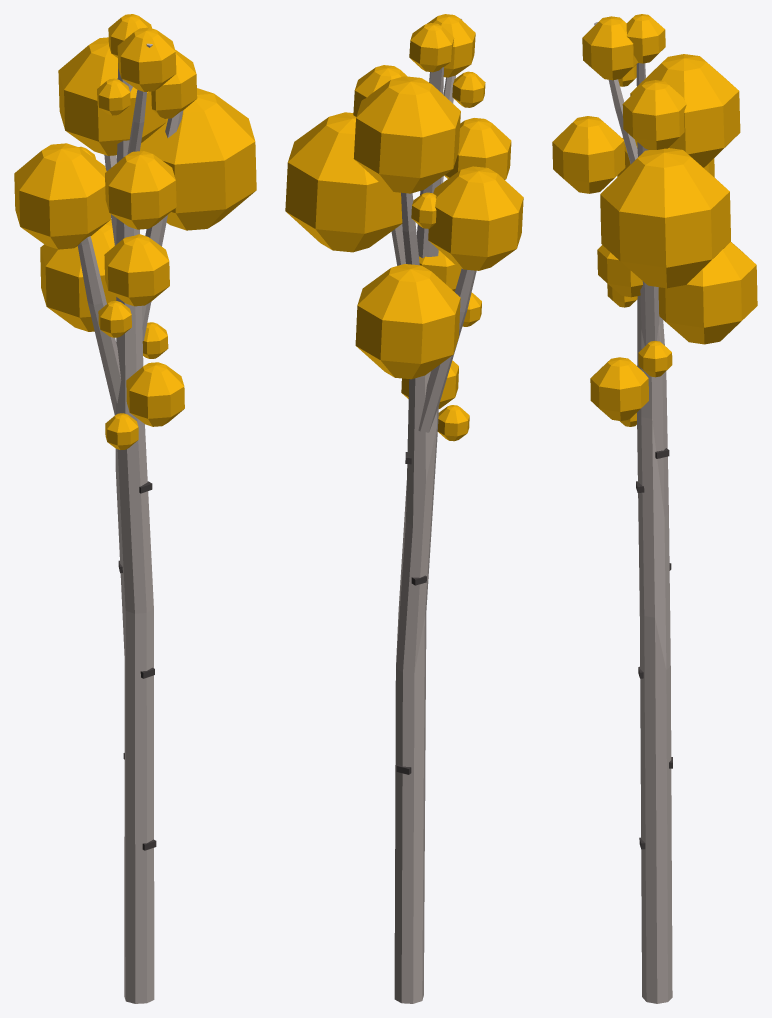
Rendered from Birch_Yellow.fbx.
The picture shows the model from 3 angles, left to right: view 1: azimuth 30°, elevation 25°; view 2: azimuth 150°, elevation 25°; view 3: azimuth 270°, elevation 25°; orthographic projection. The views are drawn at different scales.
Parts seen in each view (by area): view 1: Birch_Yellow; view 2: Birch_Yellow; view 3: Birch_Yellow.
Part boxes in pixels (x1=…): Birch_Yellow: x1=14, y1=14, x2=256, y2=1003; Birch_Yellow: x1=285, y1=14, x2=523, y2=1003; Birch_Yellow: x1=552, y1=14, x2=757, y2=1003.
Bounding box in the file's own units: 163 × 666 × 127.
